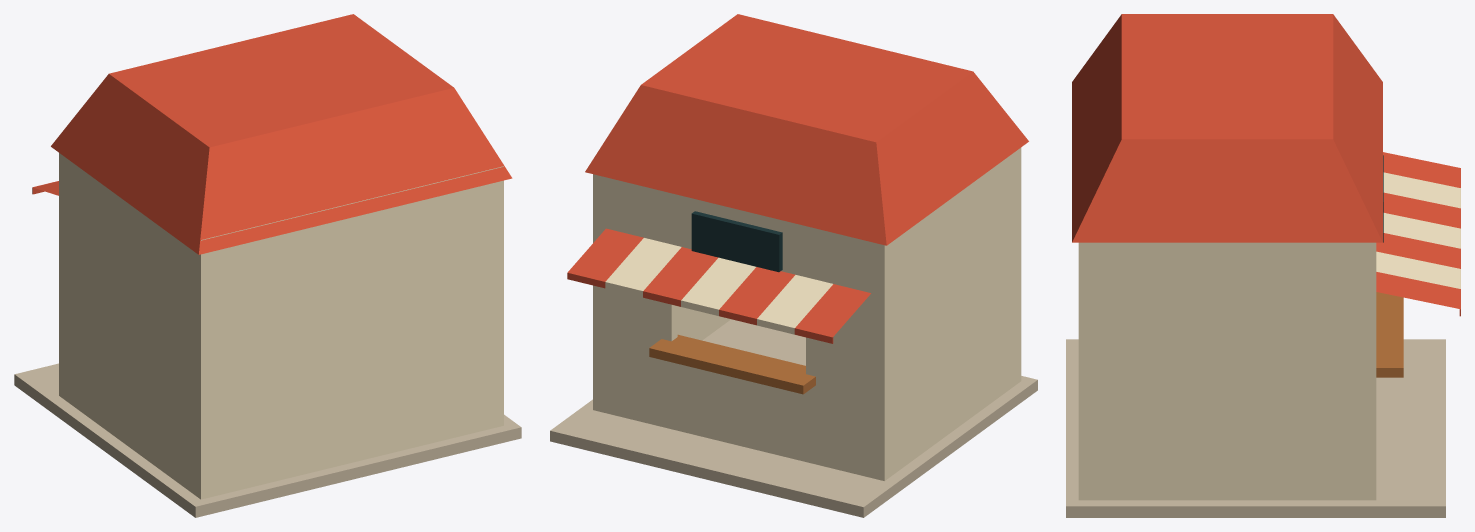
File: ice_cream_kiosk.fbx
The picture shows the model from 3 angles, left to right: view 1: azimuth 30°, elevation 25°; view 2: azimuth 150°, elevation 25°; view 3: azimuth 270°, elevation 25°; orthographic projection. The views are drawn at different scales.
Parts seen in each view (by area): view 1: ice_cream_kiosk; view 2: ice_cream_kiosk; view 3: ice_cream_kiosk.
Boxes of the visible parts, bbox=[...] form: ice_cream_kiosk: bbox=[14, 14, 521, 517]; ice_cream_kiosk: bbox=[550, 14, 1037, 517]; ice_cream_kiosk: bbox=[1066, 14, 1460, 517].
Bounding box in the file's own units: 3.5 × 3.5 × 3.5.
